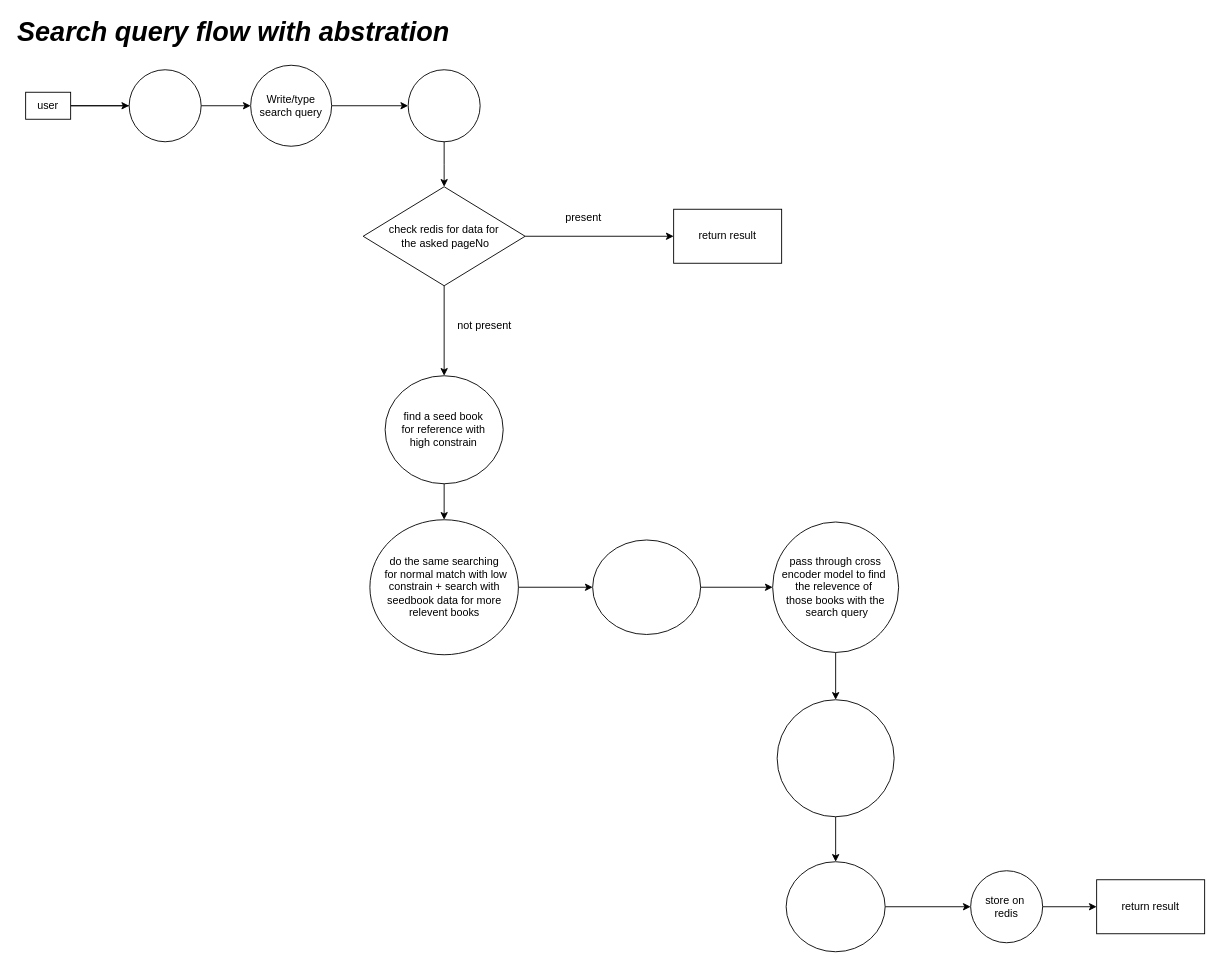
The diagram is 1220 pixels wide and 968 high, and some of its shapes have lost their labels. Each missing label, with the box of its shape:
combine the cross encoder score and ranking score with get a final score: (776, 699, 894, 817)
find the most relevent books for the query: (785, 861, 885, 952)
frontend call api: (407, 69, 480, 142)
rank all books come from all type of searching: (592, 539, 701, 634)
select a type of query: (128, 69, 201, 142)
